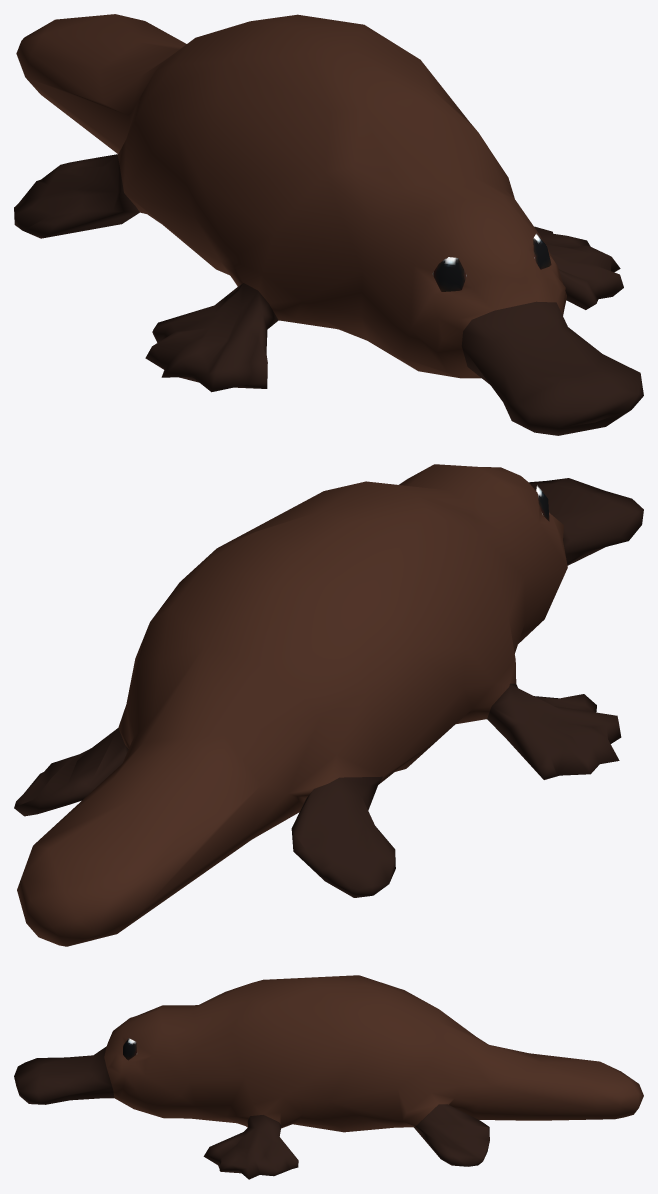
The picture shows the model from 3 angles, top to bottom: view 1: azimuth 30°, elevation 25°; view 2: azimuth 150°, elevation 25°; view 3: azimuth 270°, elevation 25°; orthographic projection. The views are drawn at different scales.
Parts seen in each view (by area): view 1: Platapus; view 2: Platapus; view 3: Platapus.
Boxes of the visible parts, left/top/right/bottom form: Platapus: left=14, top=14, right=643, bottom=435; Platapus: left=14, top=464, right=643, bottom=946; Platapus: left=14, top=975, right=643, bottom=1179.
Size of what is drawn, in the model's own units: 0.7201 by 0.3586 by 1.5.
1 material, 1 textured.
